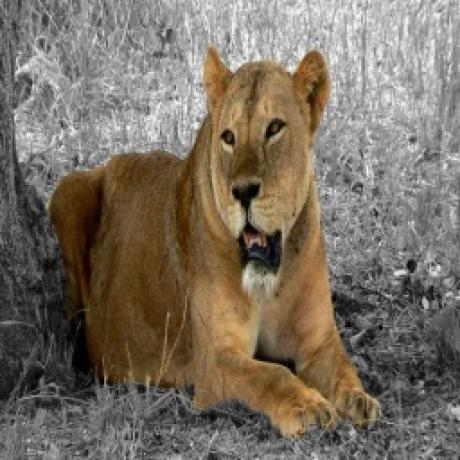Lion: (49, 32, 391, 436)
